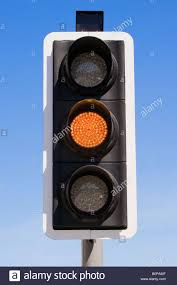amber: (37, 27, 143, 246), (48, 36, 131, 235), (55, 40, 125, 231)
